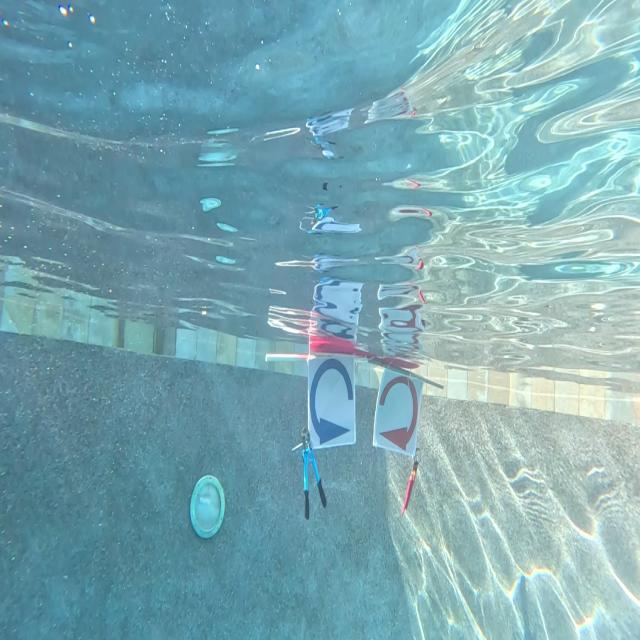blue_side: (307, 354, 354, 450)
red_side: (374, 372, 419, 457)
